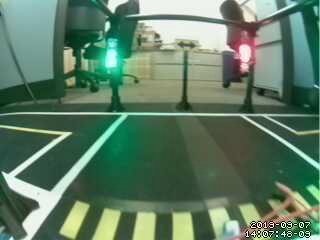Left_Right_sign: (174, 39, 203, 52)
Traffic_light_green: (104, 38, 117, 68)
Traffic_light_red: (239, 45, 253, 69)
